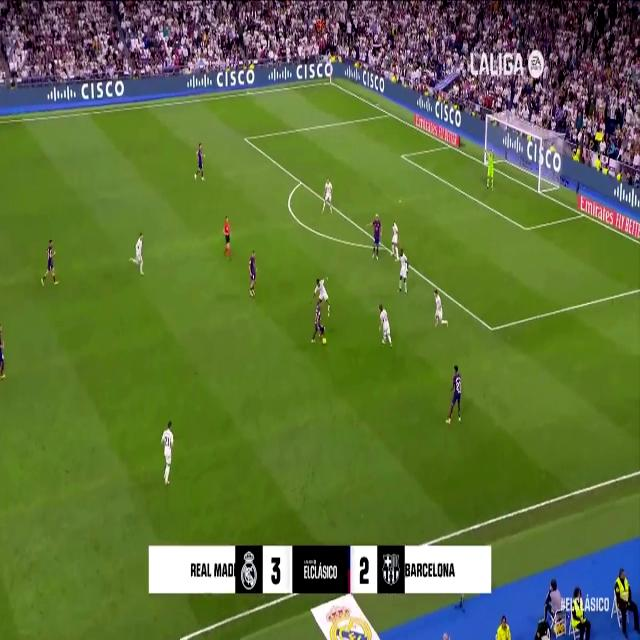bigarea_bottom_inner: (486, 316, 497, 340)
bigarea_top_inner: (241, 130, 249, 146)
bigarea_top_outter: (386, 107, 393, 119)
bottom_arc_area_intersection: (380, 240, 386, 252)
corner: (327, 77, 335, 87)
smallarea_bottom_inner: (522, 220, 530, 238)
smallarea_top_inner: (400, 150, 404, 160)
top_arc_area_intersection: (297, 174, 305, 188)
